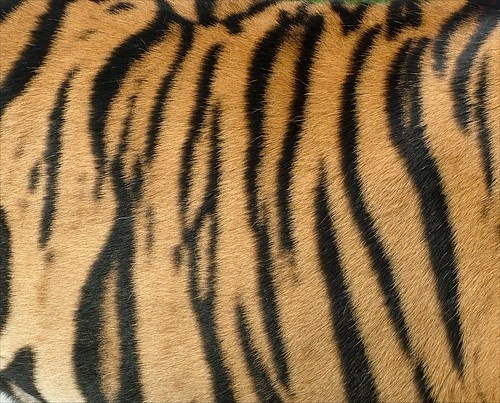tigre: (2, 3, 495, 402)
